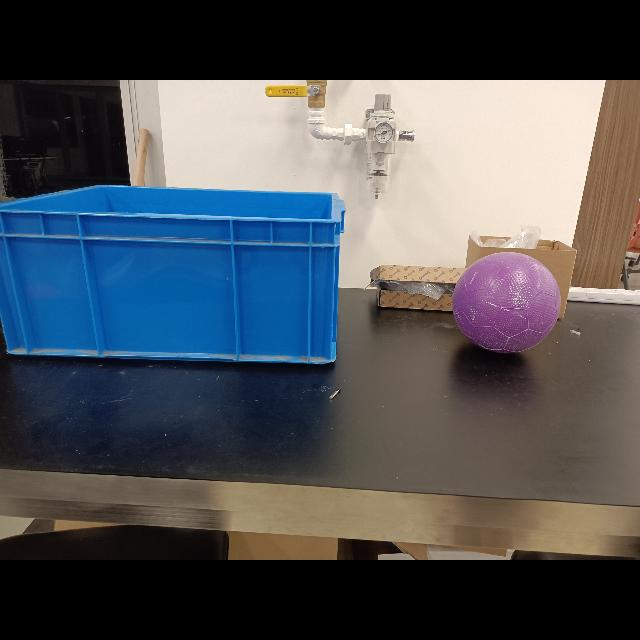P: (459, 248, 561, 354)
